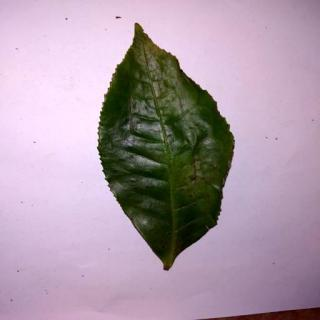Bird Eye Spot: (98, 22, 236, 271)
